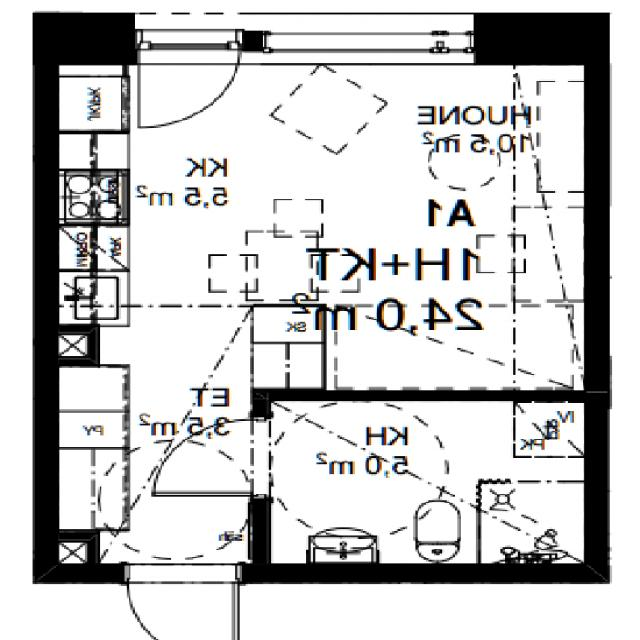door: (141, 12, 238, 140), (154, 420, 270, 496), (128, 563, 239, 640)
